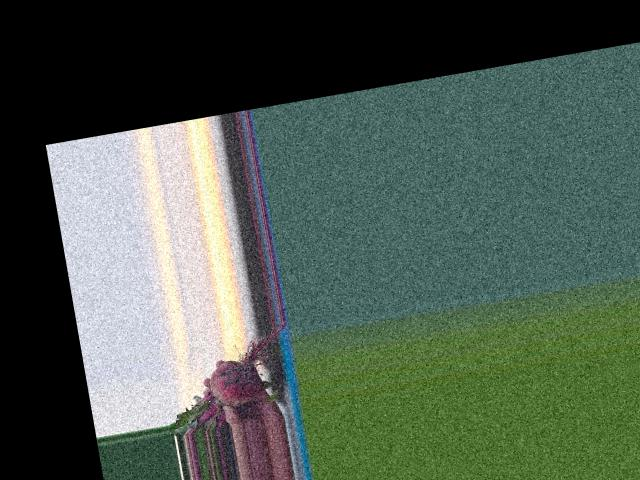beet: (156, 324, 300, 436)
